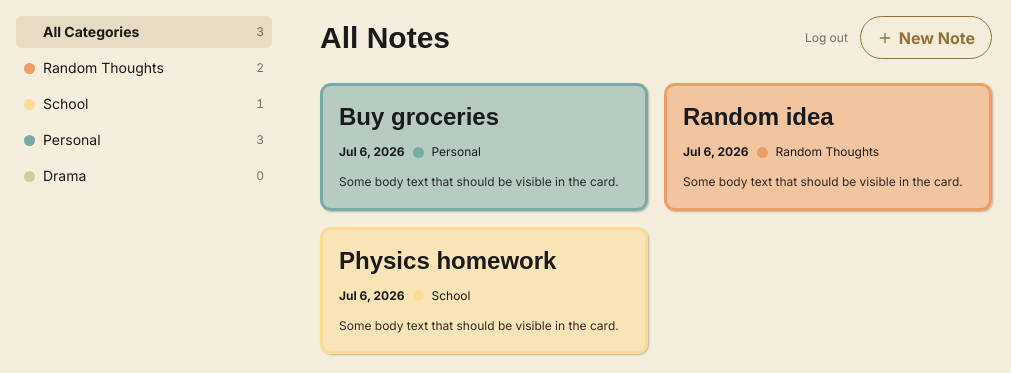
Test case: NotesWorkspace category filter › filters the visible notes when a category is selected
Click the button "School 1".
click(144, 104)  # box [16,88,272,120]
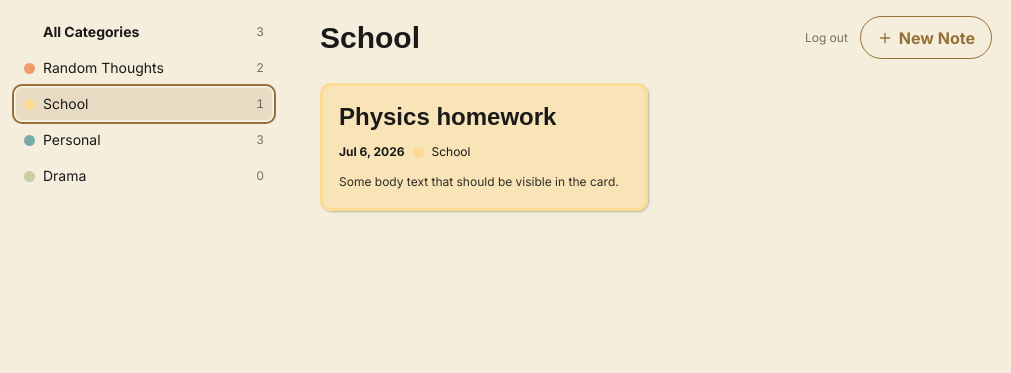
Check: the heading "Physics homework" is shown, box [339,102,556,132]
Check: the button "Buy groceries" is gone
Check: the button "Random idea" is gone
